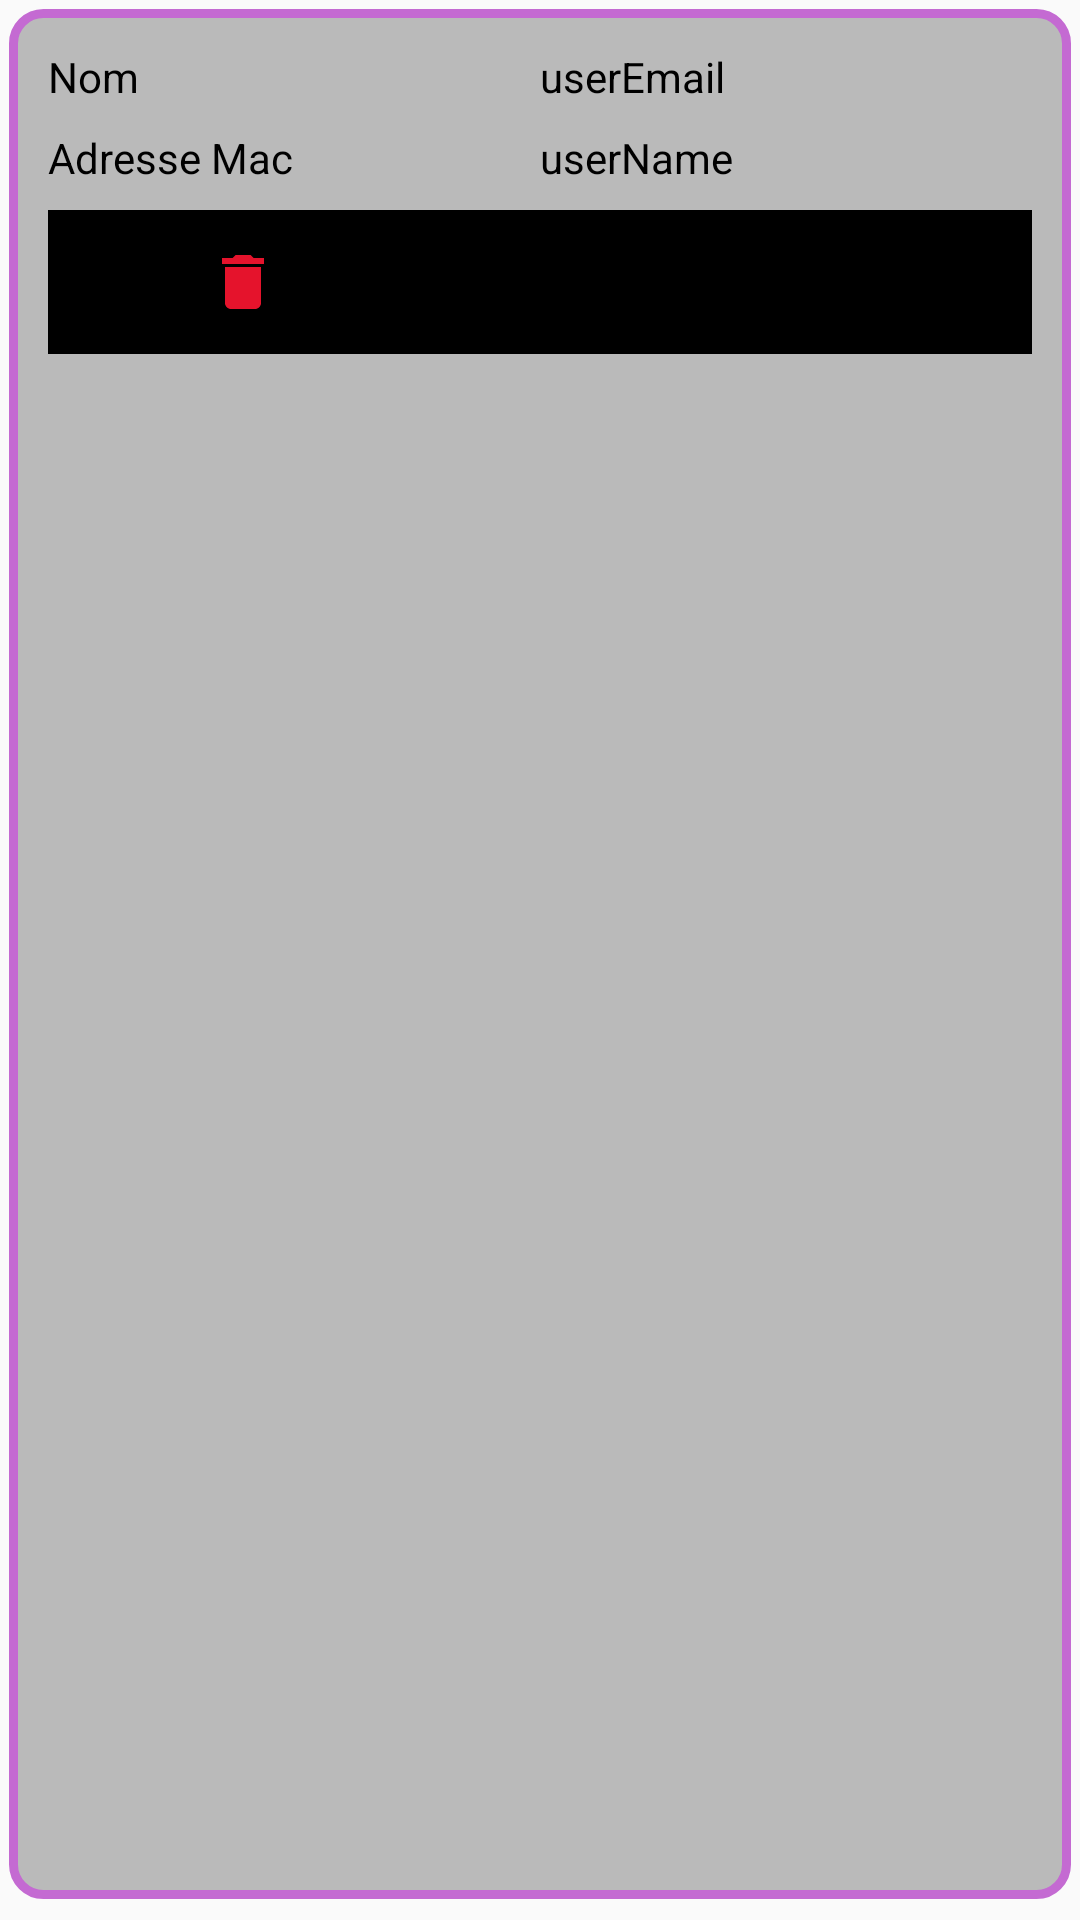

Icons on this 1080px×1920px Android screen, each with its box as box(x1, y1, x2, y2):
Supprimer: box(222, 255, 264, 309)
